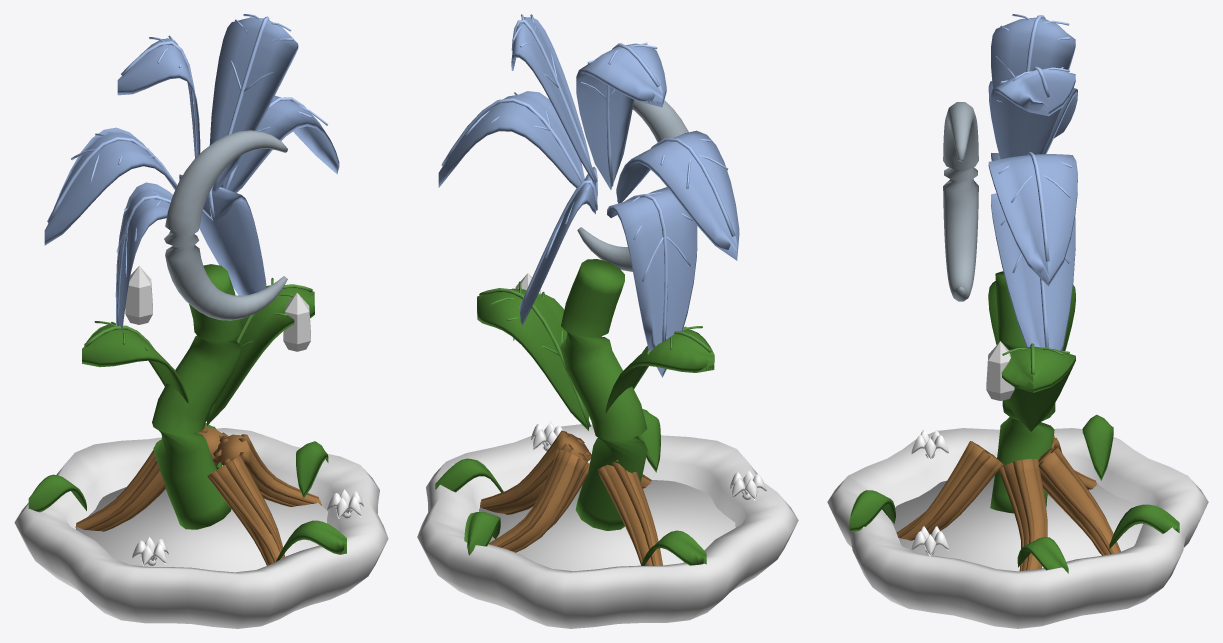
File: moonflower-1.fbx
3 renders of one model, left to right at view 1: azimuth 30°, elevation 25°; view 2: azimuth 150°, elevation 25°; view 3: azimuth 270°, elevation 25°, orthographic.
Visible parts, largest first — view 1: CarvedBasin, Petals_Petal, Turret_PortalBamboo, WaterSurface, moonflower-1_Bark, SilverCrescent, moonflower-1_PortalBamboo, Turret_Glow, moonflower-1_Petal; view 2: Petals_Petal, CarvedBasin, Turret_PortalBamboo, moonflower-1_Bark, WaterSurface, moonflower-1_PortalBamboo, SilverCrescent, moonflower-1_Petal; view 3: CarvedBasin, Petals_Petal, moonflower-1_Bark, Turret_PortalBamboo, WaterSurface, SilverCrescent, moonflower-1_PortalBamboo, moonflower-1_Petal, Turret_Glow.
Part boxes in pixels (box(x1,y1,x2,y2)): CarvedBasin: box(14, 428, 388, 628); Petals_Petal: box(44, 14, 339, 332); Turret_PortalBamboo: box(82, 264, 314, 529); WaterSurface: box(76, 487, 327, 572); moonflower-1_Bark: box(75, 425, 321, 565); SilverCrescent: box(164, 130, 287, 320); moonflower-1_PortalBamboo: box(28, 423, 346, 561); Turret_Glow: box(125, 266, 310, 351); moonflower-1_Petal: box(132, 489, 363, 566); Petals_Petal: box(438, 14, 739, 377); CarvedBasin: box(417, 424, 798, 628); Turret_PortalBamboo: box(477, 259, 714, 530); moonflower-1_Bark: box(480, 430, 662, 565); WaterSurface: box(479, 480, 735, 571); moonflower-1_PortalBamboo: box(435, 409, 706, 565); SilverCrescent: box(577, 100, 688, 271); moonflower-1_Petal: box(531, 421, 766, 500); CarvedBasin: box(827, 428, 1208, 628); Petals_Petal: box(988, 14, 1077, 350); moonflower-1_Bark: box(896, 425, 1120, 571); Turret_PortalBamboo: box(988, 271, 1075, 513); WaterSurface: box(889, 476, 1142, 571); SilverCrescent: box(943, 102, 978, 301); moonflower-1_PortalBamboo: box(849, 414, 1179, 573); moonflower-1_Petal: box(911, 430, 948, 556); Turret_Glow: box(986, 341, 1014, 400).
Bounding box in the file's own units: 85.55 × 133 × 87.03.
